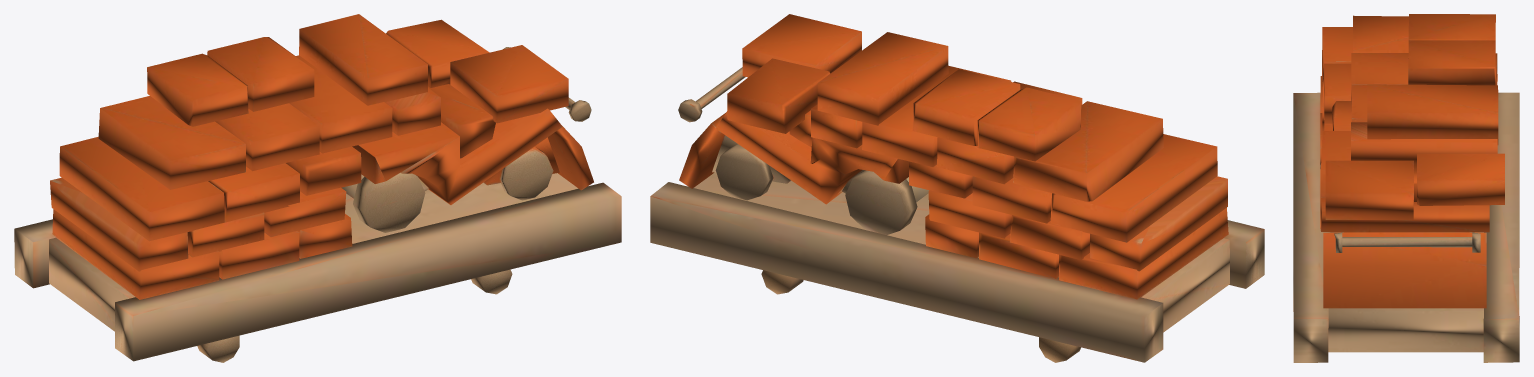
File: hills-brickpile.glb
3 views of the same model, side by side, from view 1: azimuth 30°, elevation 25°; view 2: azimuth 150°, elevation 25°; view 3: azimuth 270°, elevation 25° (orthographic). The views are drawn at different scales.
Size of the model in its own units: 0.9575 by 0.417 by 0.4043.
Materials: 1 (1 with a texture image).
